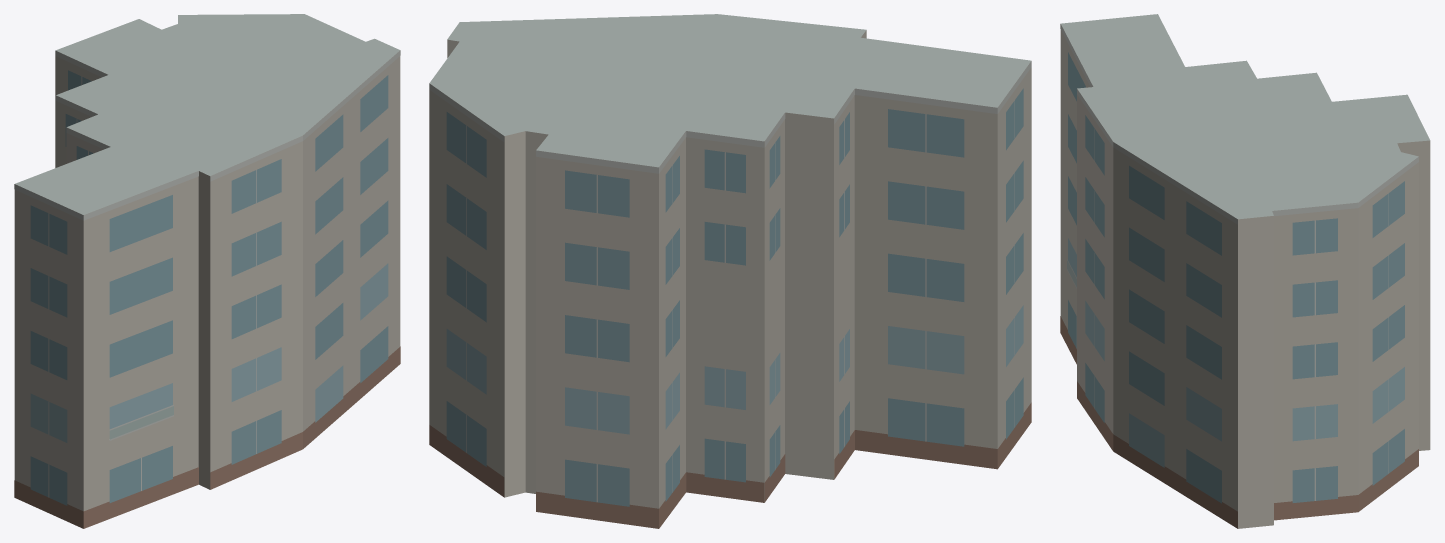
File: survey-upis-32646026.glb
3 views of the same model, side by side, from view 1: azimuth 30°, elevation 25°; view 2: azimuth 150°, elevation 25°; view 3: azimuth 270°, elevation 25° (orthographic). The views are drawn at different scales.
Parts seen in each view (by area): view 1: survey-upis-32646026.tmp; view 2: survey-upis-32646026.tmp; view 3: survey-upis-32646026.tmp.
Boxes of the visible parts, x1=… form: survey-upis-32646026.tmp: x1=14, y1=14, x2=400, y2=528; survey-upis-32646026.tmp: x1=429, y1=14, x2=1031, y2=528; survey-upis-32646026.tmp: x1=1060, y1=14, x2=1430, y2=528.
Bounding box in the file's own units: 19.64 × 13.8 × 14.95.
